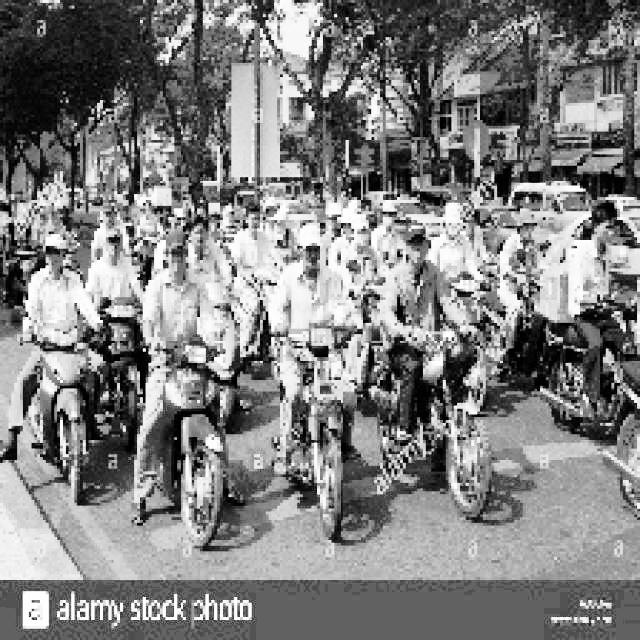Bike: (378, 322, 496, 513), (157, 319, 231, 533), (280, 312, 352, 526), (34, 305, 98, 493), (548, 315, 624, 439)
